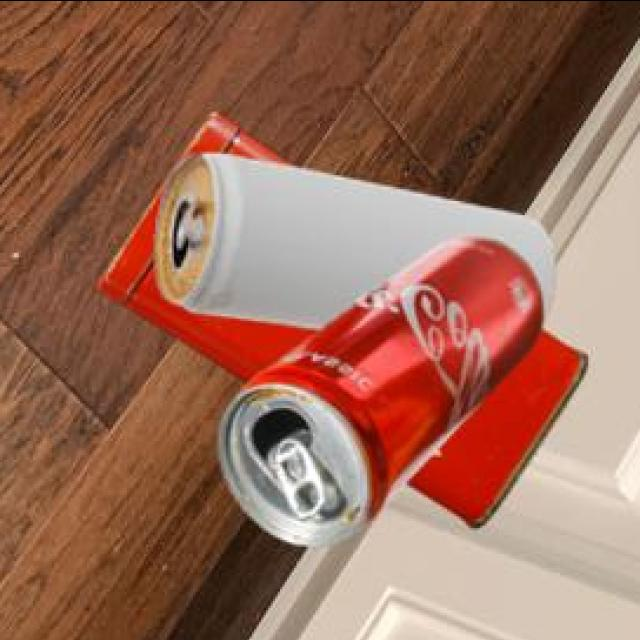logam: (100, 116, 589, 531), (222, 239, 547, 549), (159, 156, 559, 333)
